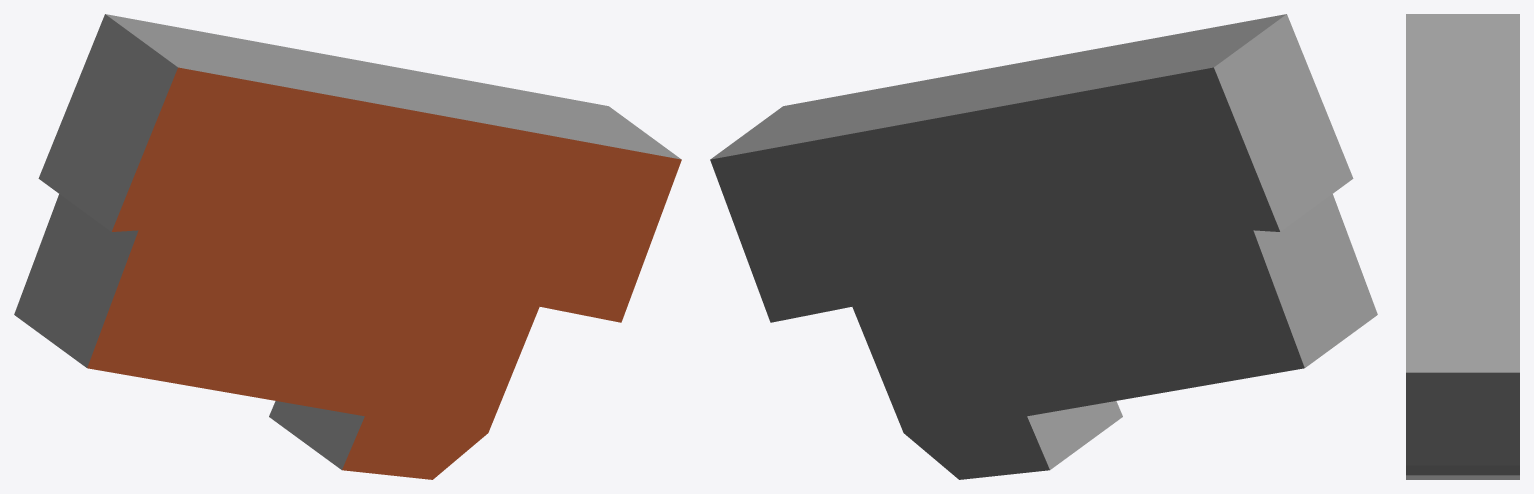
The model's file is construction_5345_assumed_A_Casa_h6m.obj.
3 renders of one model, left to right at view 1: azimuth 30°, elevation 25°; view 2: azimuth 150°, elevation 25°; view 3: azimuth 270°, elevation 25°, orthographic. The views are drawn at different scales.
Visible parts, largest first — view 1: construction_5345_assumed_A_Casa; view 2: construction_5345_assumed_A_Casa; view 3: construction_5345_assumed_A_Casa.
Part boxes in pixels (bbox=[...]): construction_5345_assumed_A_Casa: bbox=[14, 14, 681, 479]; construction_5345_assumed_A_Casa: bbox=[710, 14, 1377, 479]; construction_5345_assumed_A_Casa: bbox=[1406, 14, 1519, 479].
Bounding box in the file's own units: 28.2 × 21.5 × 6.
